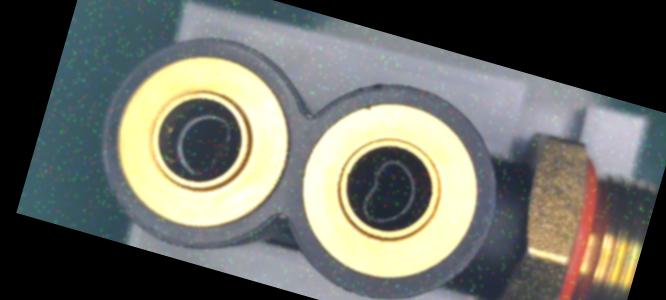off-centered: (348, 149, 431, 234), (166, 105, 243, 185)
